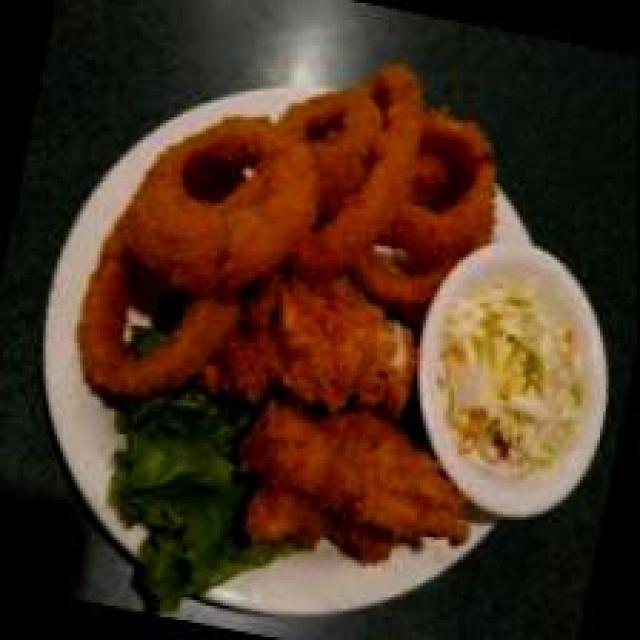Chicken Wings: (195, 270, 496, 567)
Onion Rings: (59, 2, 544, 467)
